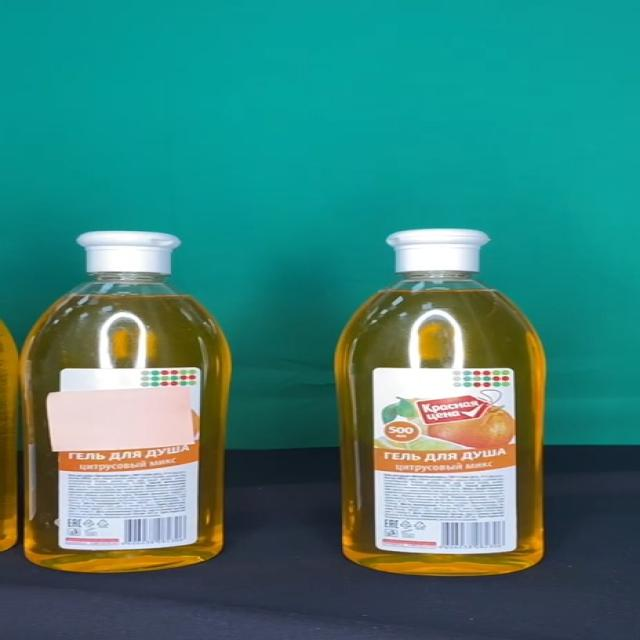Bottle: (336, 227, 547, 575), (21, 230, 233, 574)
Cap: (76, 230, 182, 274), (386, 229, 490, 272)
